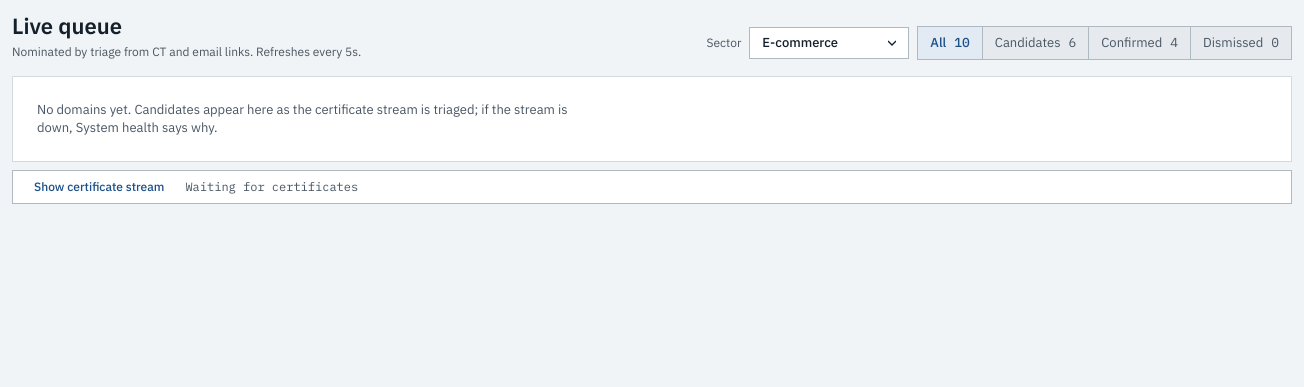
Test: the live queue shows the organisation's own sector first; All sectors is one choice away
The width and height of the screenshot is (1304, 387).
Click the button named "Sector" at point(829, 43), box [749,27,909,59]
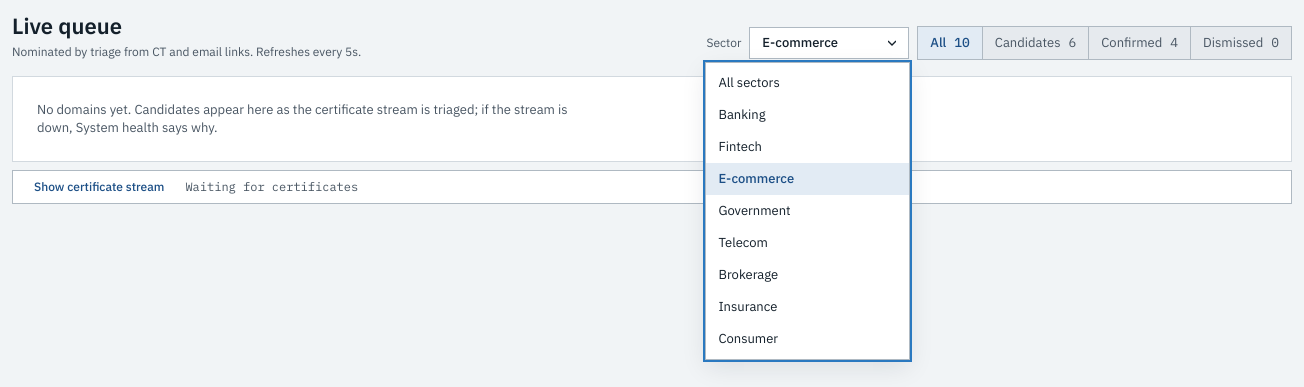
Click the option "All sectors" at point(749, 82), box [718,74,780,91]
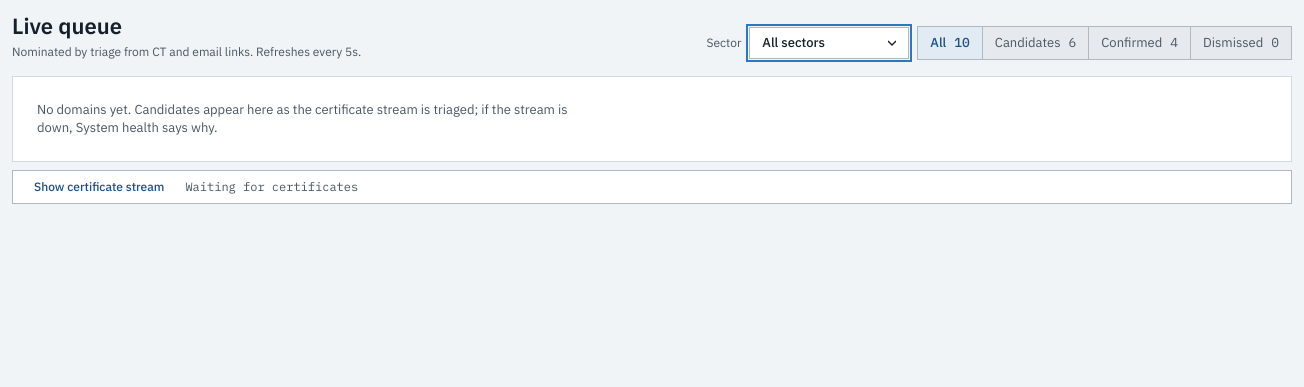
Expected: the button "All sectors" is shown, [749,27,909,59]
